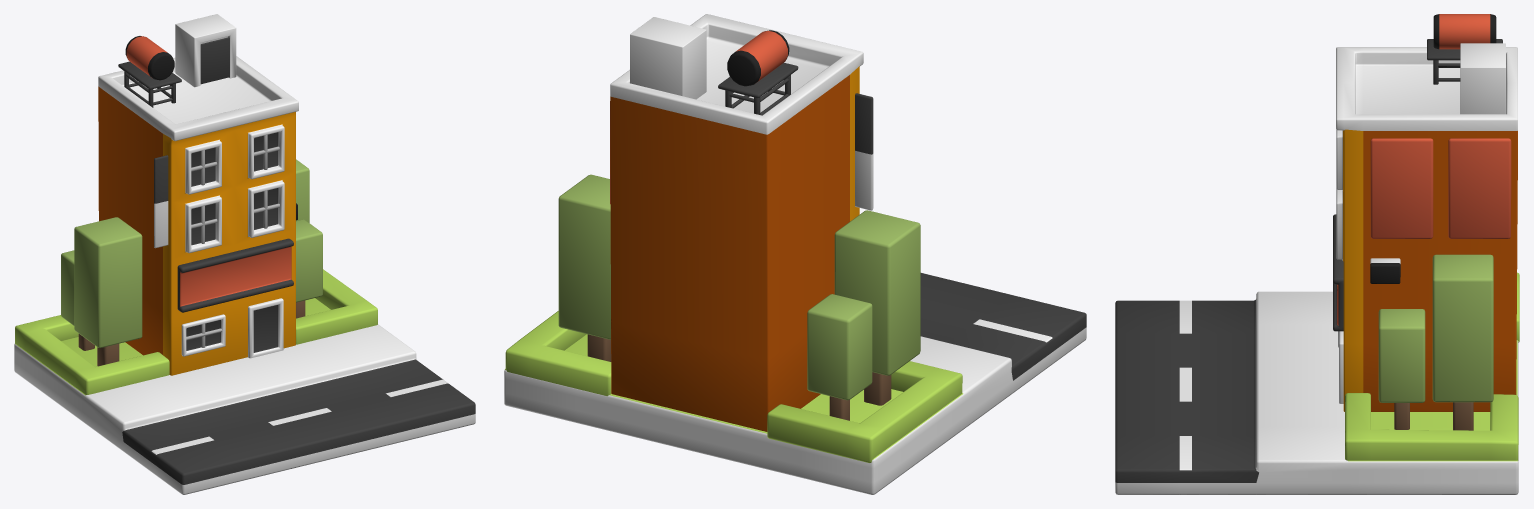
Rendered from Lowpoly_street.fbx.
3 renders of one model, left to right at view 1: azimuth 30°, elevation 25°; view 2: azimuth 150°, elevation 25°; view 3: azimuth 270°, elevation 25°, orthographic. The views are drawn at different scales.
Visible parts, largest first — view 1: Cube.001, Cube.002, Cube.005, Cube.013, Cube.004, Cube.012, Cube.003, Cylinder, Cube.008, Cube.014, Cube.007, Cube.006; view 2: Cube.001, Cube.002, Cube.005, Cube.004, Cube.006, Cube.007, Cube.012, Cube.003, Cylinder, Cube.014; view 3: Cube.002, Cube.001, Cube.006, Cube.003, Cube.010, Cube.011, Cube.008, Cube.012, Cylinder, Cube.013.
Boxes of the visible parts, box(x1,y1,x2,y2) form: Cube.001: box(98, 56, 298, 375); Cube.002: box(14, 298, 475, 494); Cube.005: box(74, 217, 142, 366); Cube.013: box(177, 238, 293, 312); Cube.004: box(15, 315, 169, 394); Cube.012: box(175, 14, 236, 87); Cube.003: box(296, 269, 377, 344); Cylinder: box(118, 36, 181, 107); Cube.008: box(296, 219, 322, 318); Cube.014: box(154, 155, 168, 248); Cube.007: box(61, 250, 94, 350); Cube.006: box(296, 159, 309, 222); Cube.001: box(610, 14, 863, 431); Cube.002: box(504, 273, 1086, 494); Cube.005: box(834, 210, 920, 405); Cube.004: box(767, 361, 962, 462); Cube.006: box(558, 174, 611, 361); Cube.007: box(807, 294, 872, 420); Cube.012: box(630, 17, 706, 99); Cube.003: box(505, 311, 611, 396); Cylinder: box(718, 30, 798, 115); Cube.014: box(855, 93, 873, 210); Cube.002: box(1115, 291, 1518, 494); Cube.001: box(1336, 47, 1517, 411); Cube.006: box(1432, 254, 1493, 430); Cube.003: box(1345, 393, 1518, 460); Cube.010: box(1370, 138, 1433, 238); Cube.011: box(1448, 138, 1511, 238); Cube.008: box(1378, 309, 1425, 429); Cube.012: box(1460, 43, 1505, 114); Cylinder: box(1427, 14, 1502, 84); Cube.013: box(1333, 214, 1343, 331).
Bounding box in the file's own units: 1400 × 1440 × 1404.
2 materials, 1 textured.
